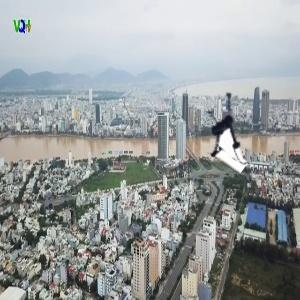drone: (188, 85, 268, 165)
